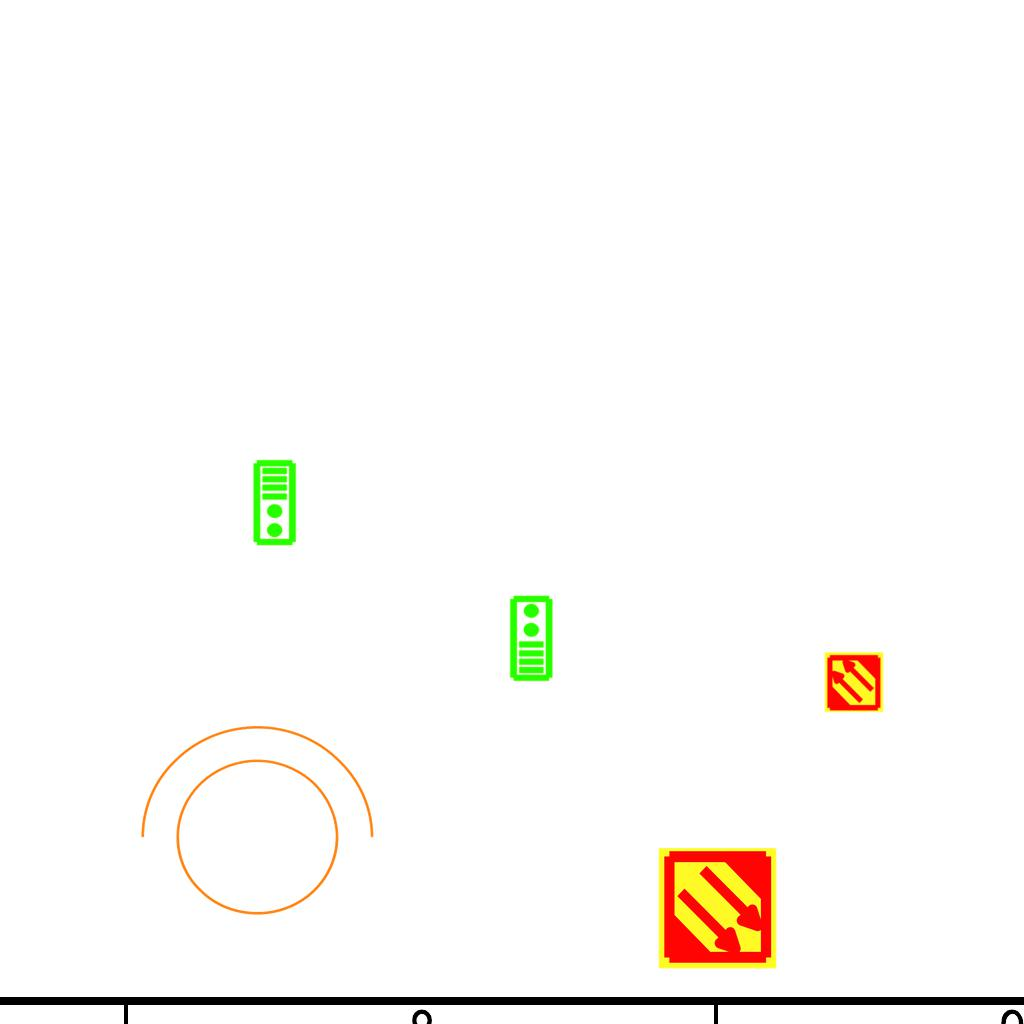ASR_Ansaugrauchmelder: (655, 846, 780, 971), (823, 651, 885, 713)
Gegensprechanlage_mit_Video: (252, 459, 299, 547), (507, 594, 554, 682)
Scheinwerfer_fuer_Alarmbeleuchtung: (119, 715, 383, 940)
